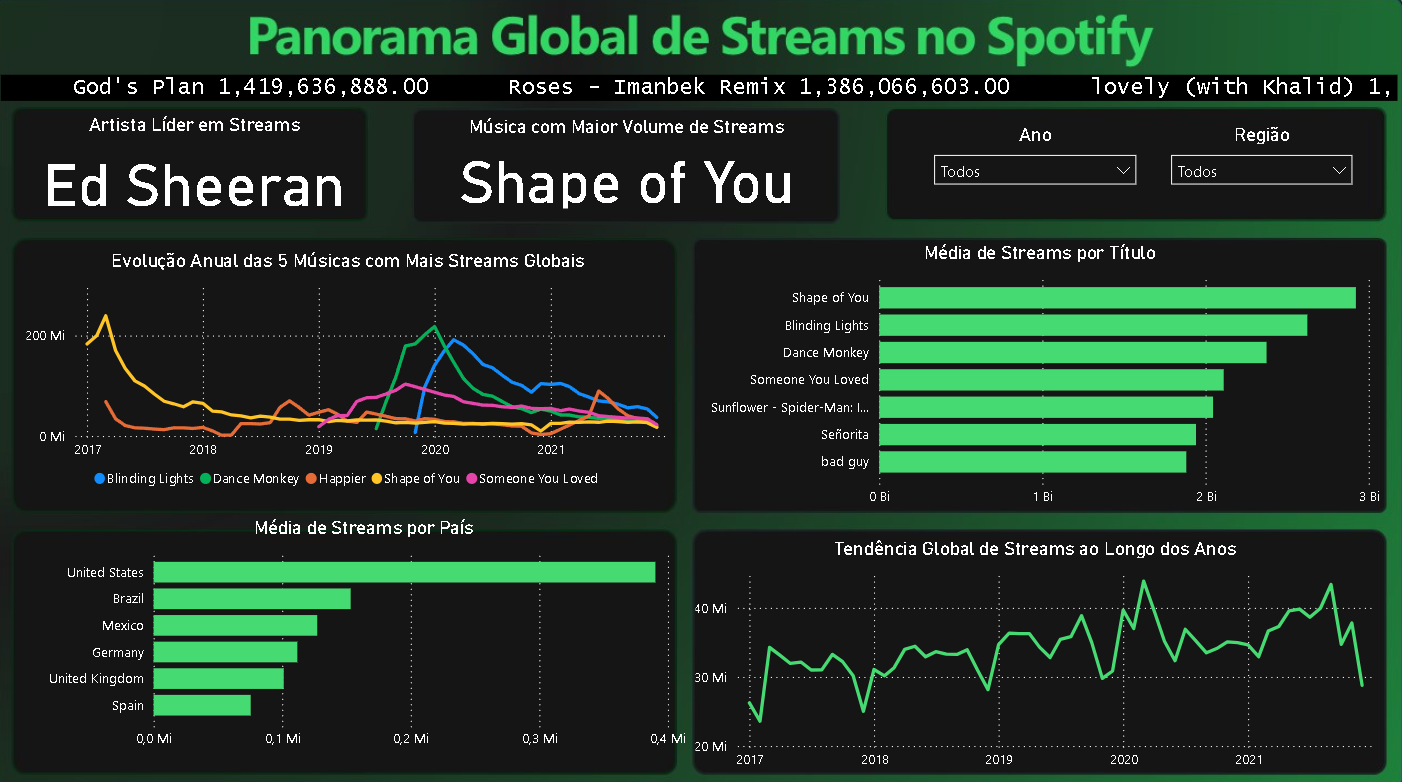

What the dashboard file says about the page in this screenshot:
{"tool":"powerbi","page":{"name":"Página 1","canvas":[1280,720],"ordinal":0},"visuals":[{"type":"lineChart","title":"Tendência Global de Streams ao Longo dos Anos","fields":{"Category":["charts.date.Variation.Hierarquia de datas.Ano","charts.date.Variation.Hierarquia de datas.Mês"],"Y":["_Medidas.Média de Streams"]},"box":[632,489,628,219],"z":0},{"type":"card","title":"Música com Maior Volume de Streams","fields":{"Values":["_Medidas.Música Top 1 por Streams"]},"box":[385.5,105.4,377.6,90.4],"z":1000},{"type":"card","title":"Artista Líder em Streams","fields":{"Values":["_Medidas.Artista Top 1 por Streams"]},"box":[23.7,103.6,316.1,99.2],"z":2000},{"type":"slicer","title":"Região","fields":{"Values":["charts.region"]},"box":[1059,113,185,66],"z":3000},{"type":"slicer","title":"Ano","fields":{"Values":["charts.date.Variation.Hierarquia de datas.Ano","charts.date.Variation.Hierarquia de datas.Trimestre","charts.date.Variation.Hierarquia de datas.Mês","charts.date.Variation.Hierarquia de datas.Dia"]},"box":[844,113,204,66],"z":4000},{"type":"lineChart","title":"Evolução Anual das 5 Músicas com Mais Streams Globais","fields":{"Series":["charts.title"],"Category":["charts.date.Variation.Hierarquia de datas.Ano","charts.date.Variation.Hierarquia de datas.Mês"],"Y":["_Medidas.Média de Streams"]},"box":[24,227,595,227],"z":5000},{"type":"ScrollingTextVisual1448795304508","fields":{"Category":["charts.title"],"Measure Absolute":["_Medidas.Média Streams por Música"]},"box":[0,63.2,1280.2,34.2],"z":6000},{"type":"barChart","title":"Média de Streams por País","fields":{"Y":["_Medidas.Média de Streams S/Global"],"Category":["charts.region"]},"box":[37.9,469.6,594.6,219.6],"z":7000},{"type":"barChart","title":"Média de Streams por Título","fields":{"Category":["charts.title"],"Y":["_Medidas.Média de Streams"]},"box":[632,220,636,249],"z":8000}]}

Visuals, with their boxes in screenshot pixels (x1, y1, x2, y2), scaled from the page's 1280x720 canvas onto the 1402x782 screenshot:
"Tendência Global de Streams ao Longo dos Anos" lineChart: left=692, top=531, right=1380, bottom=769
"Música com Maior Volume de Streams" card: left=422, top=114, right=836, bottom=213
"Artista Líder em Streams" card: left=26, top=113, right=372, bottom=220
"Região" slicer: left=1160, top=123, right=1363, bottom=194
"Ano" slicer: left=924, top=123, right=1148, bottom=194
"Evolução Anual das 5 Músicas com Mais Streams Globais" lineChart: left=26, top=247, right=678, bottom=493
ScrollingTextVisual1448795304508 - charts.title x _Medidas.Média Streams por Música: left=0, top=69, right=1401, bottom=106
"Média de Streams por País" barChart: left=42, top=510, right=693, bottom=749
"Média de Streams por Título" barChart: left=692, top=239, right=1389, bottom=509
